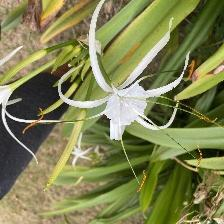spider lily: (90, 68, 171, 143)
